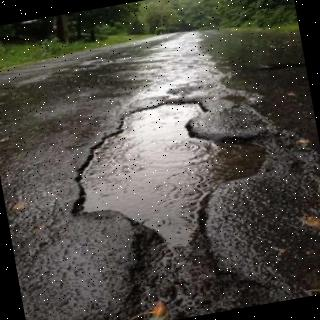pothole: (73, 104, 297, 320)
